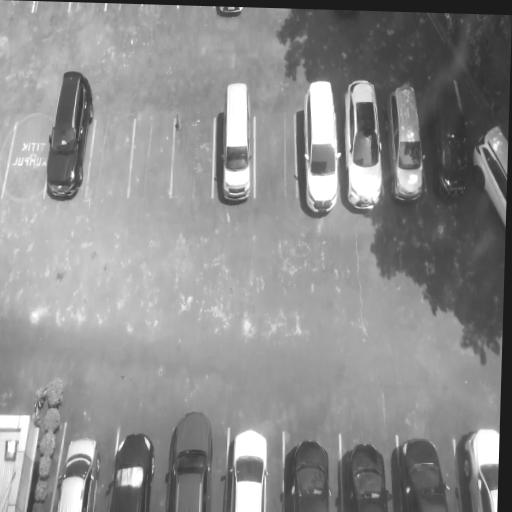Car: (43, 66, 95, 202), (341, 67, 388, 214), (296, 77, 343, 220), (213, 73, 255, 218), (429, 71, 474, 204), (386, 68, 428, 209), (162, 402, 214, 512), (469, 118, 508, 238), (393, 440, 454, 512), (109, 417, 155, 511), (278, 427, 328, 512), (336, 433, 389, 512), (449, 430, 499, 512), (55, 426, 102, 512), (224, 425, 268, 512)
Space Available: (1, 98, 49, 199), (254, 97, 297, 207), (86, 105, 132, 203), (129, 105, 174, 203), (171, 103, 216, 200), (32, 1, 70, 25), (177, 6, 217, 28), (103, 3, 142, 25), (140, 6, 179, 23), (69, 2, 104, 20)
